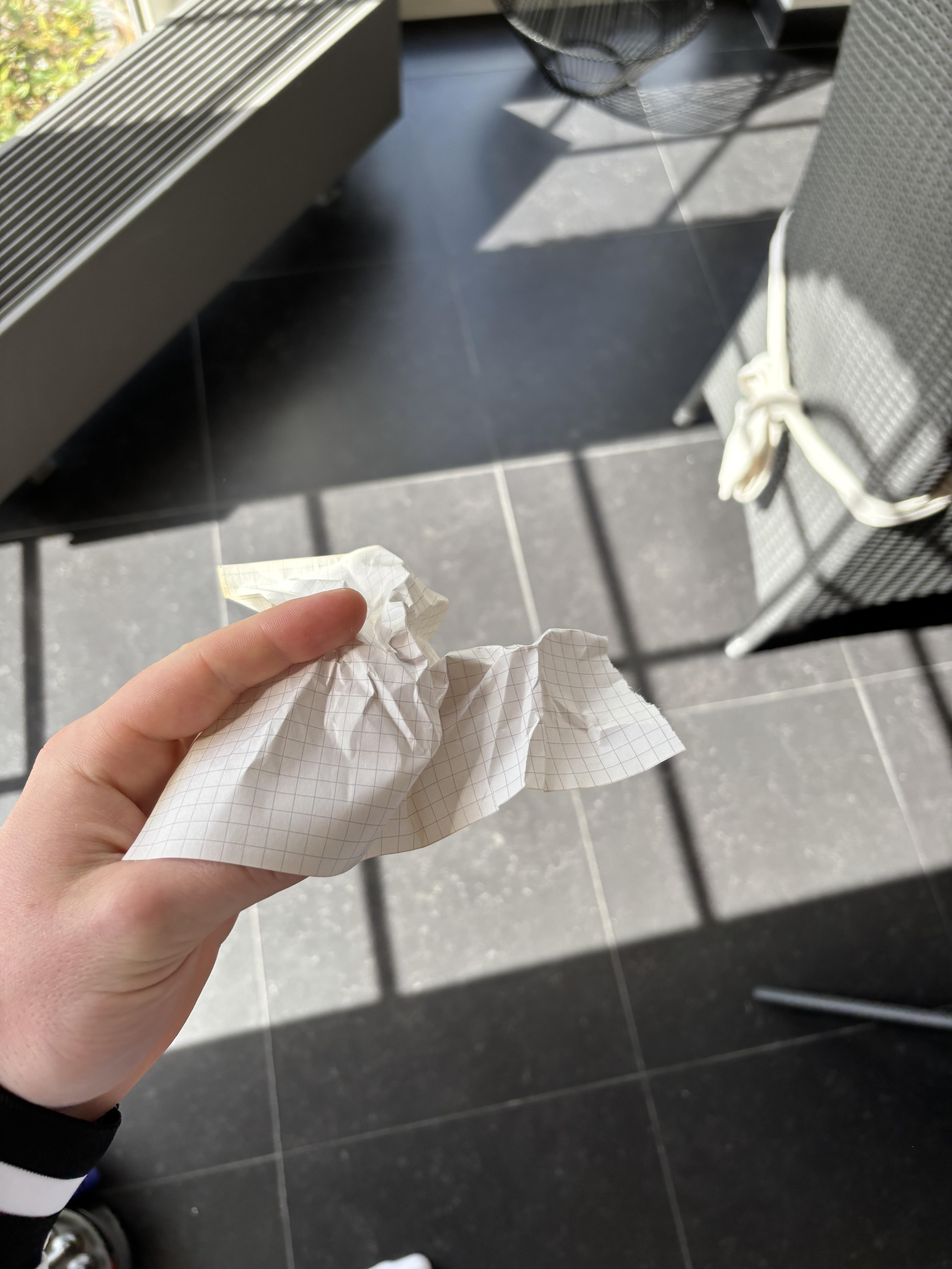Paper: (127, 536, 690, 881)
